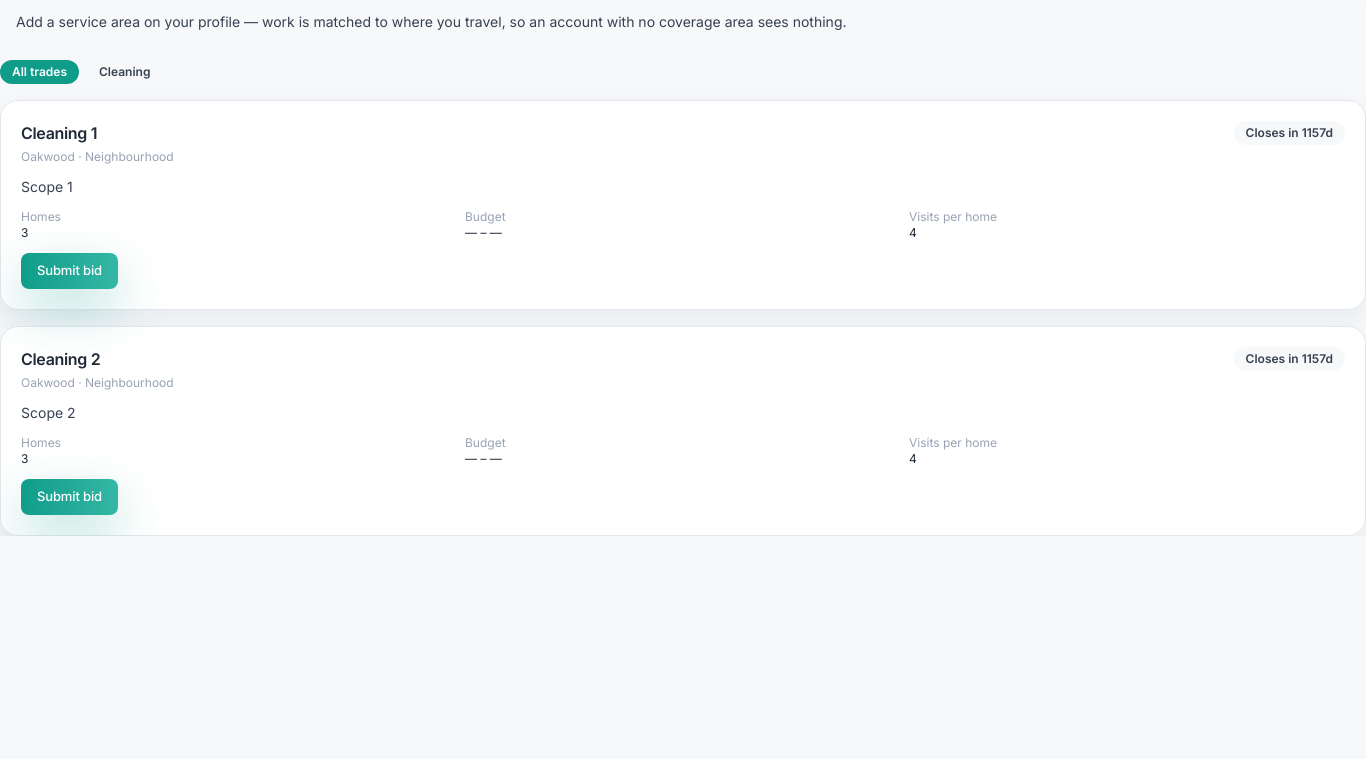
provider bid feedback with the real marketplace hook › shows an inline amount error and makes no PUT for invalid amount
Check: the heading "Cleaning 1" is shown, box [21, 123, 97, 143]
Click the button "Submit bid" below "Scope 1".
click(70, 271)  # box [21, 253, 118, 289]
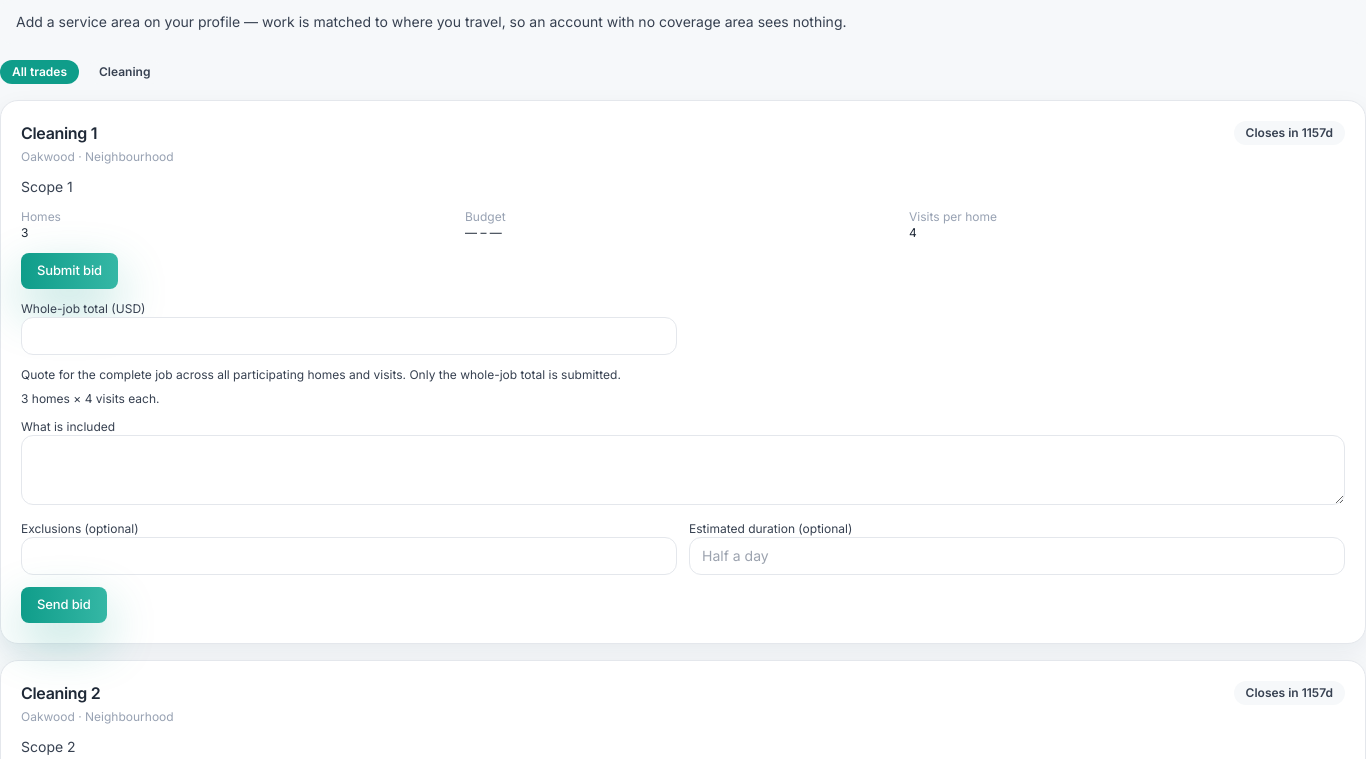
Type "Draft for card 1" into the text box labelled "What is included".
click(683, 470); type("Draft for card 1")  # box [21, 435, 1345, 505]
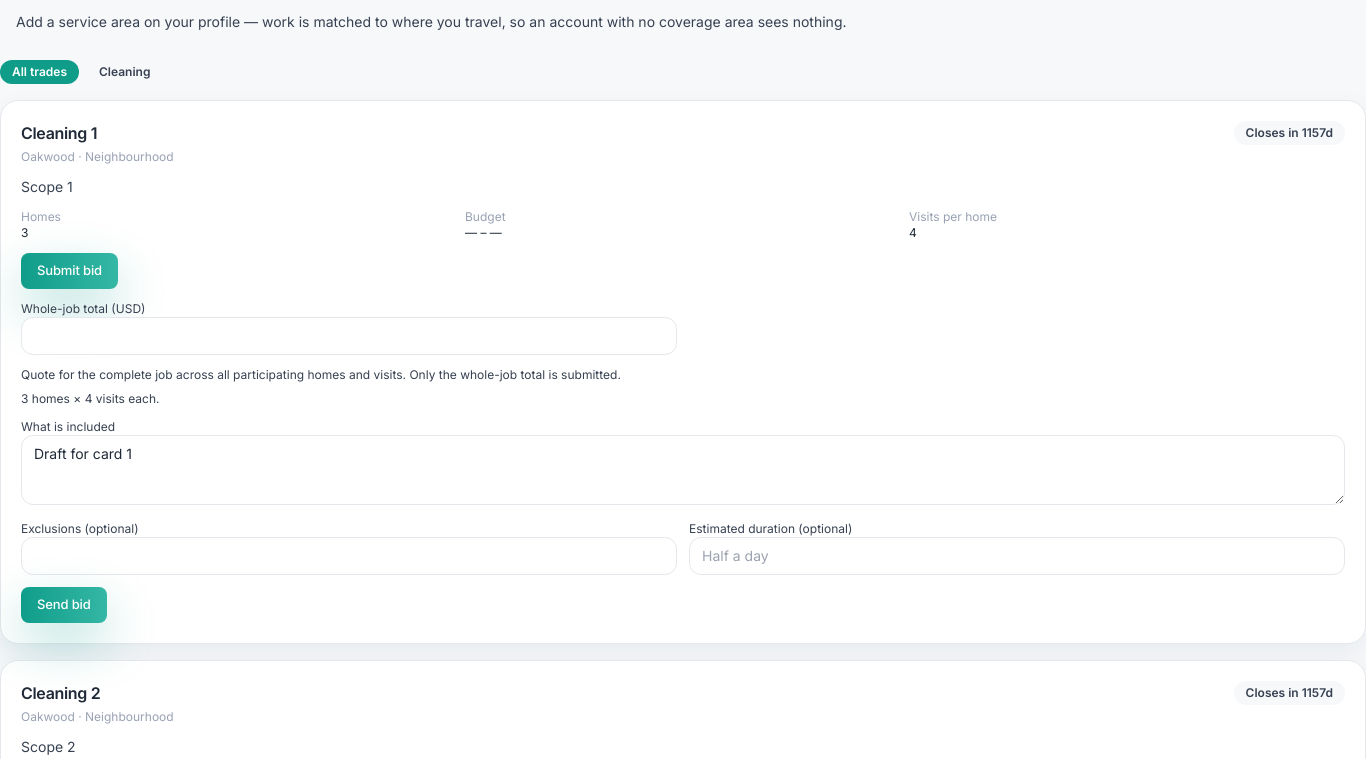
Submit the form labelled "Whole-job total", box [21, 301, 1345, 623]
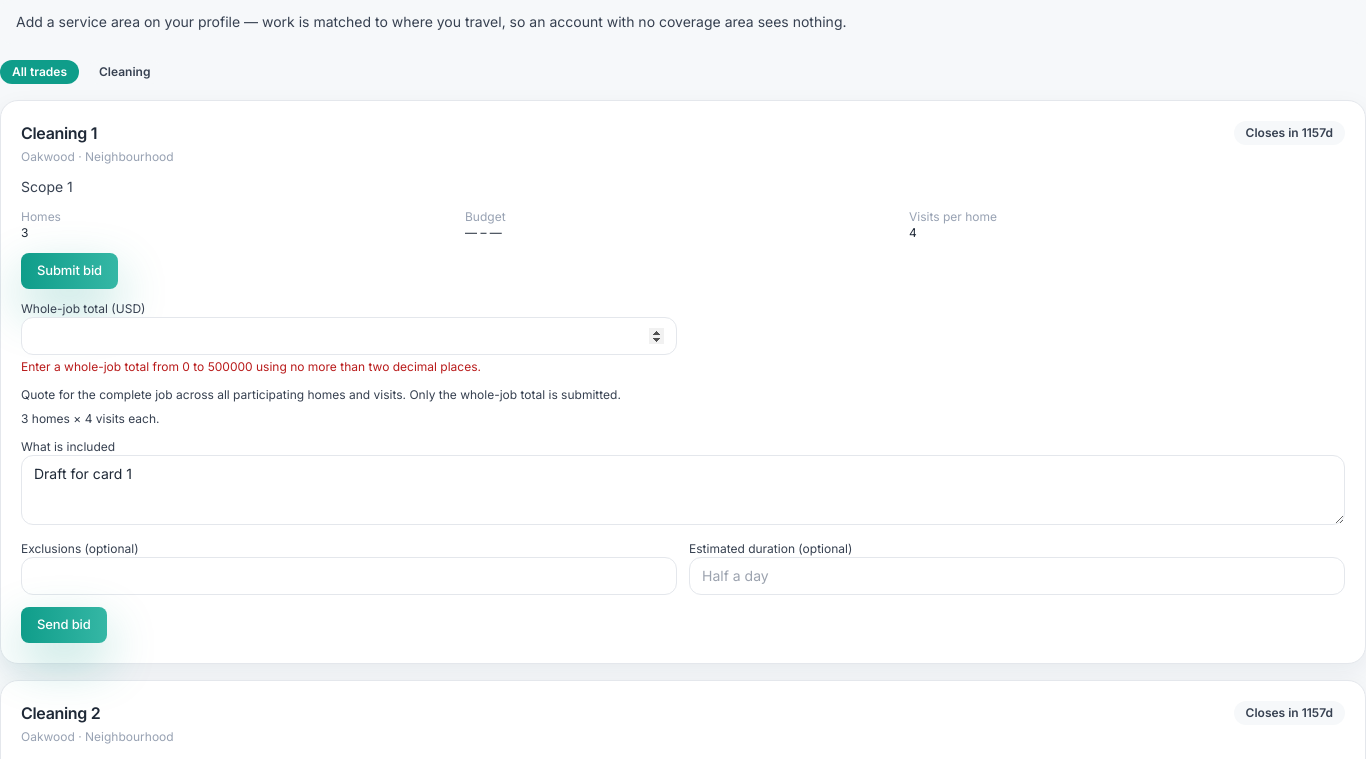
Check: the 1st message reads "Enter a whole-job total from 0 to 500000 using no more than two decimal places.", box [21, 359, 481, 374]
